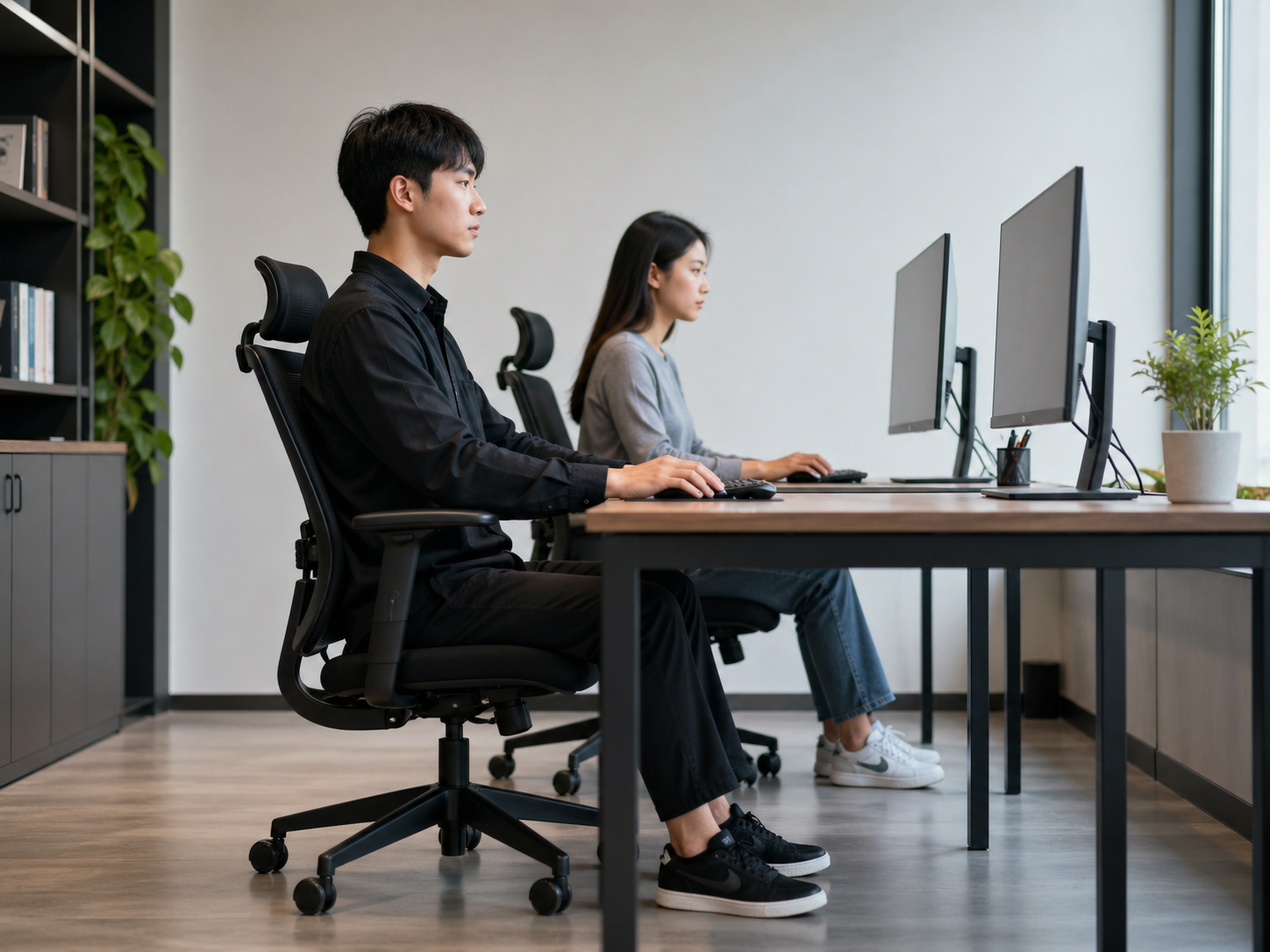sitting_good: (284, 101, 632, 879), (572, 213, 840, 700)
